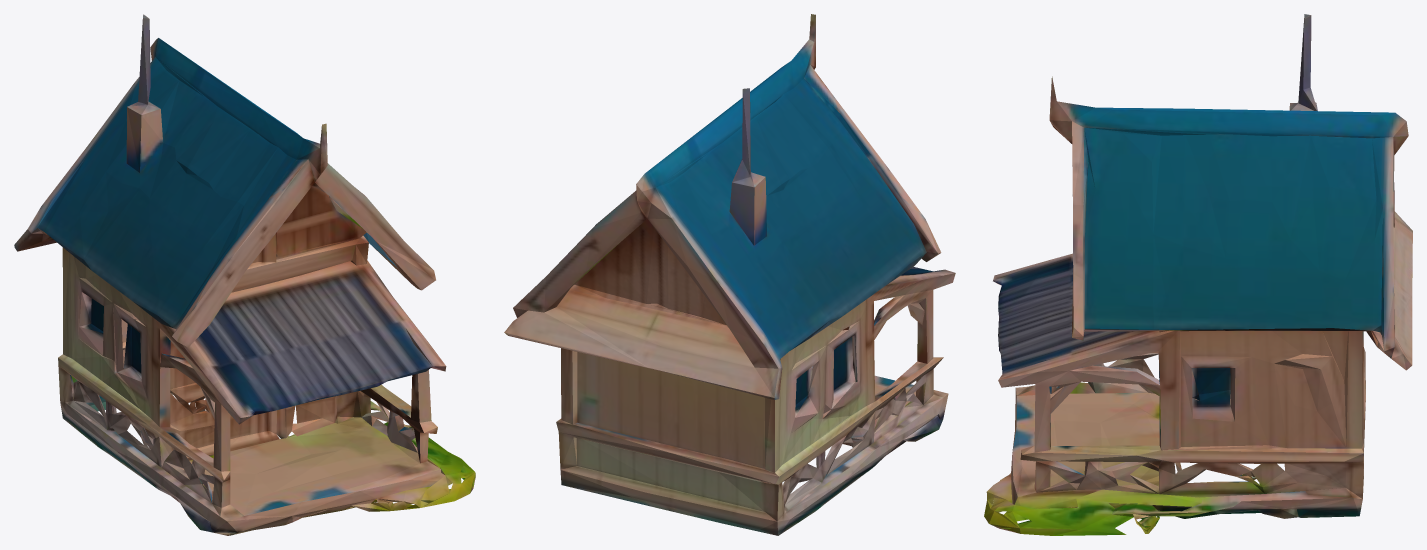
File: warden_kiosk.glb
3 renders of one model, left to right at view 1: azimuth 30°, elevation 25°; view 2: azimuth 150°, elevation 25°; view 3: azimuth 270°, elevation 25°, orthographic. The views are drawn at different scales.
Visible parts, largest first — view 1: textured_mesh.obj; view 2: textured_mesh.obj; view 3: textured_mesh.obj.
Part boxes in pixels (left/top/right/bottom): textured_mesh.obj: left=14, top=14, right=475, bottom=535; textured_mesh.obj: left=504, top=14, right=955, bottom=535; textured_mesh.obj: left=984, top=14, right=1412, bottom=535.
Size of the model in its own units: 1.84 by 2.6 by 2.37.
Materials: 1 (1 with a texture image).
